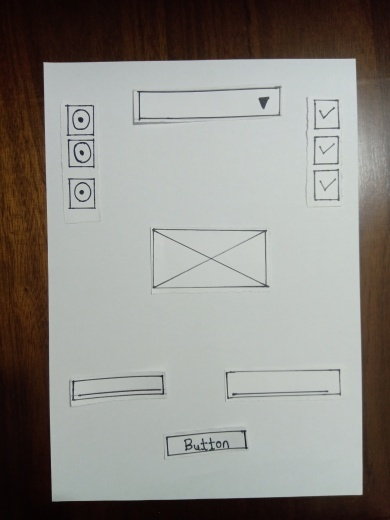button: (168, 430, 244, 456)
checkbox: (312, 103, 338, 129), (311, 171, 337, 197), (313, 140, 339, 166)
dropdown: (132, 88, 280, 119)
img: (152, 232, 265, 290)
radio: (71, 178, 95, 209), (67, 108, 95, 134), (67, 141, 95, 167)
text: (227, 371, 336, 398), (72, 377, 163, 398)
